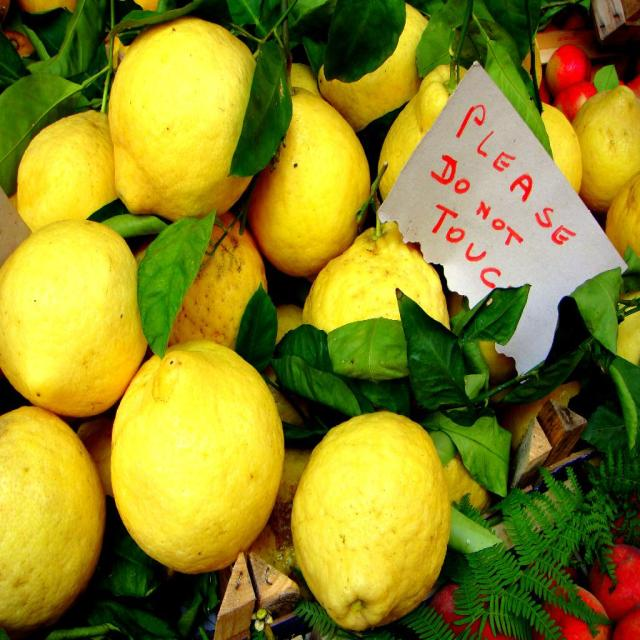Lemon: (0, 0, 640, 633)
